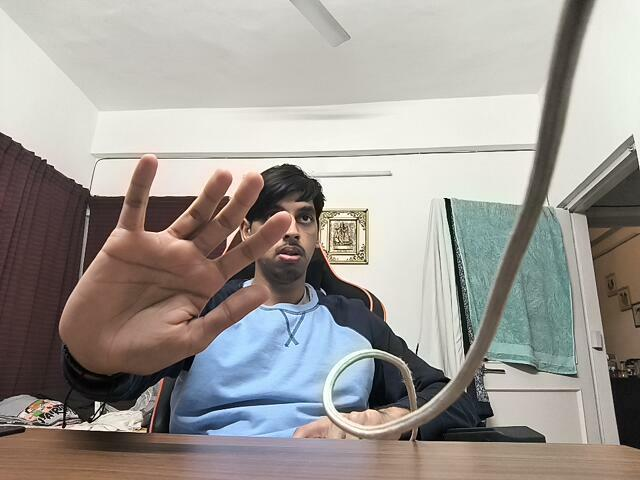STOP: (56, 151, 297, 374)
